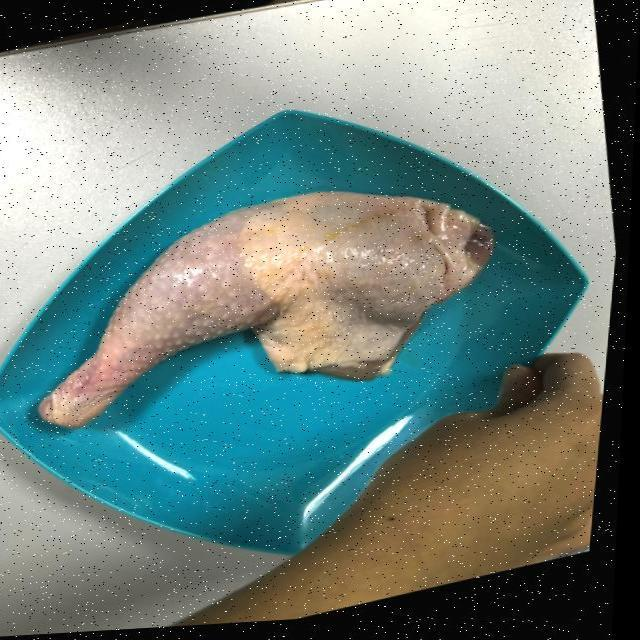quater: (56, 193, 512, 453)
